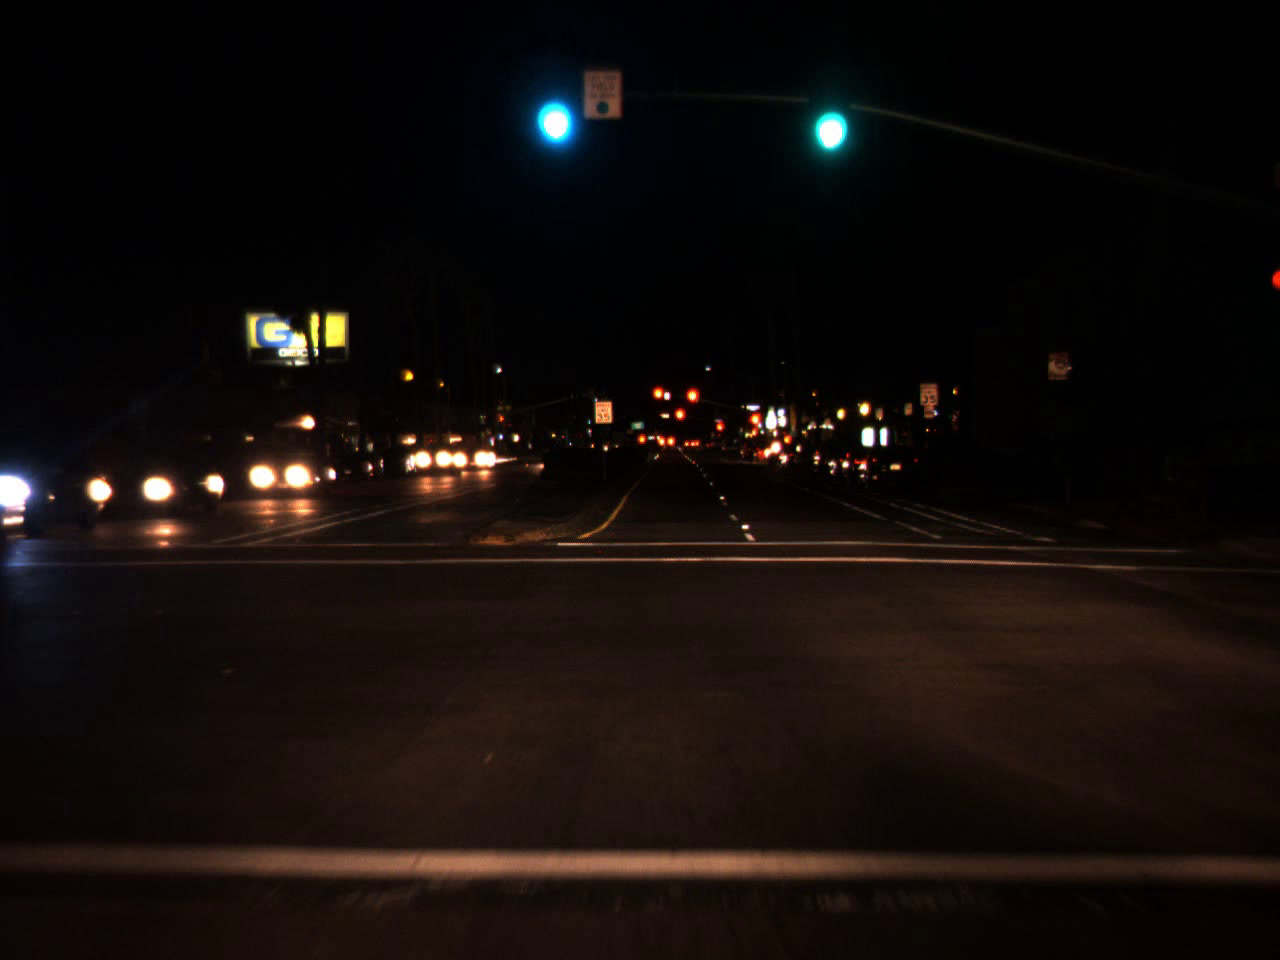go: (528, 65, 577, 152), (805, 74, 850, 161)
stop: (747, 411, 762, 443), (685, 387, 698, 419), (651, 385, 666, 412), (673, 407, 686, 434), (715, 419, 724, 441), (498, 414, 504, 427)
